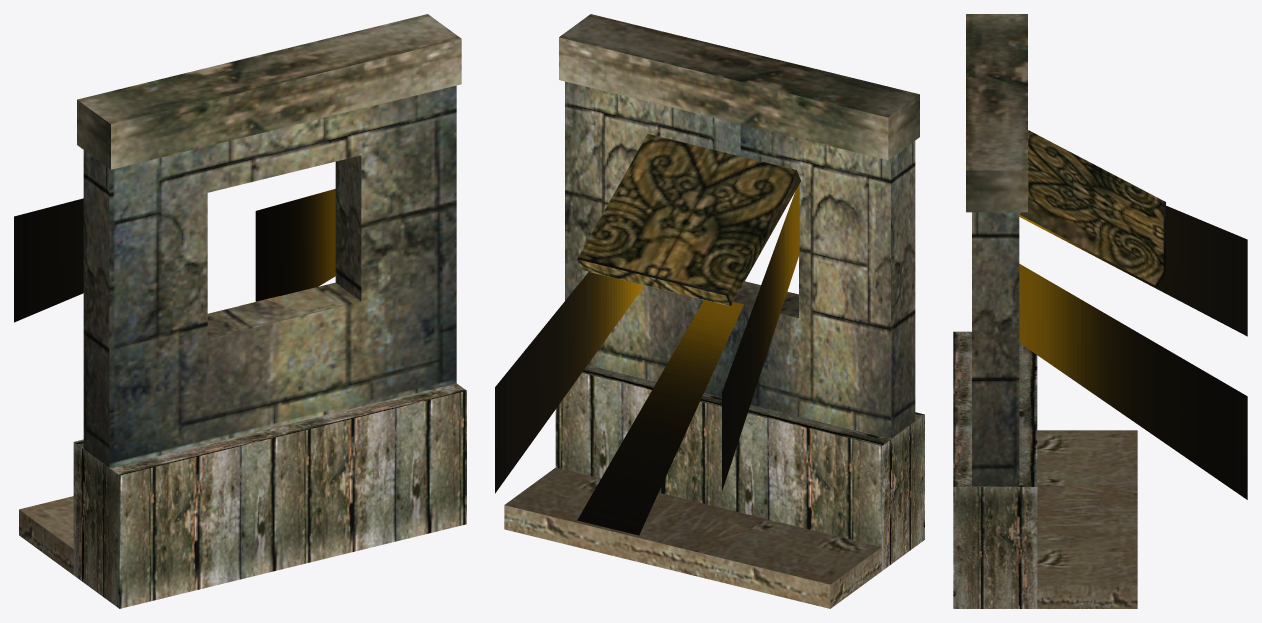
File: HouseWall02.obj
3 views of the same model, side by side, from view 1: azimuth 30°, elevation 25°; view 2: azimuth 150°, elevation 25°; view 3: azimuth 270°, elevation 25° (orthographic). The views are drawn at different scales.
Parts seen in each view (by area): view 1: Mesh_1, Mesh_2, Mesh_4, Mesh_3; view 2: Mesh_2, Mesh_1, Mesh_4, Mesh_0, Mesh_3; view 3: Mesh_4, Mesh_2, Mesh_3, Mesh_1, Mesh_0.
Boxes of the visible parts, x1,y1,x2,y2 form: Mesh_1: (83, 85, 456, 467); Mesh_2: (73, 14, 466, 608); Mesh_4: (14, 189, 335, 322); Mesh_3: (19, 496, 73, 574); Mesh_2: (555, 14, 924, 570); Mesh_1: (565, 81, 915, 438); Mesh_4: (495, 184, 799, 535); Mesh_0: (577, 134, 800, 306); Mesh_3: (504, 467, 881, 608); Mesh_4: (1019, 205, 1247, 499); Mesh_2: (953, 14, 1037, 608); Mesh_3: (1037, 430, 1137, 608); Mesh_1: (972, 212, 1019, 486); Mesh_0: (1019, 130, 1165, 286).
Size of the model in its own units: 2.02 by 2.64 by 1.61.
Materials: 5 (5 with a texture image).
